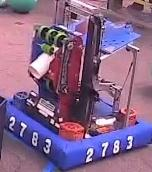blue_number: (7, 114, 54, 157), (81, 133, 135, 165)
